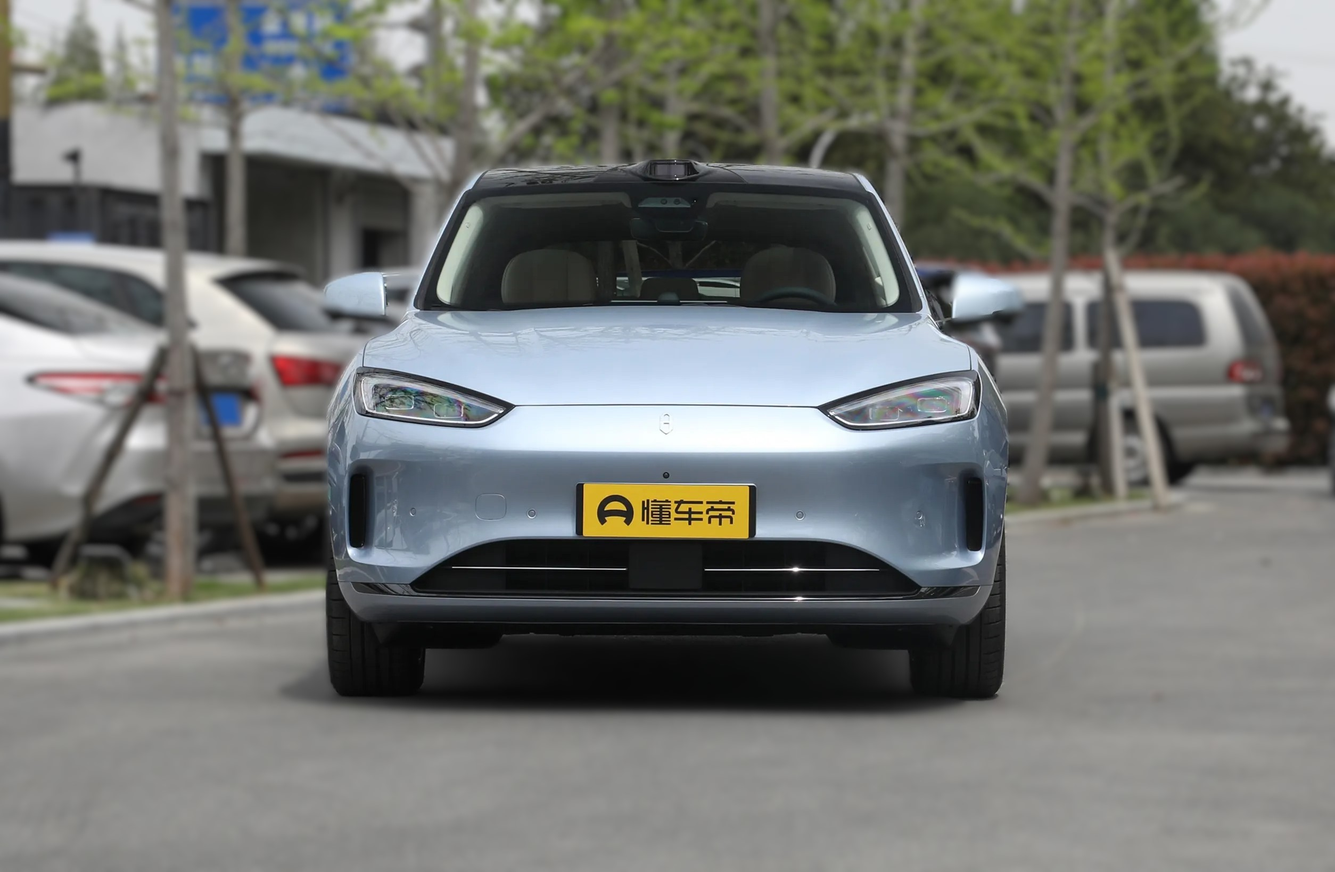AITO: (660, 412, 673, 434)
